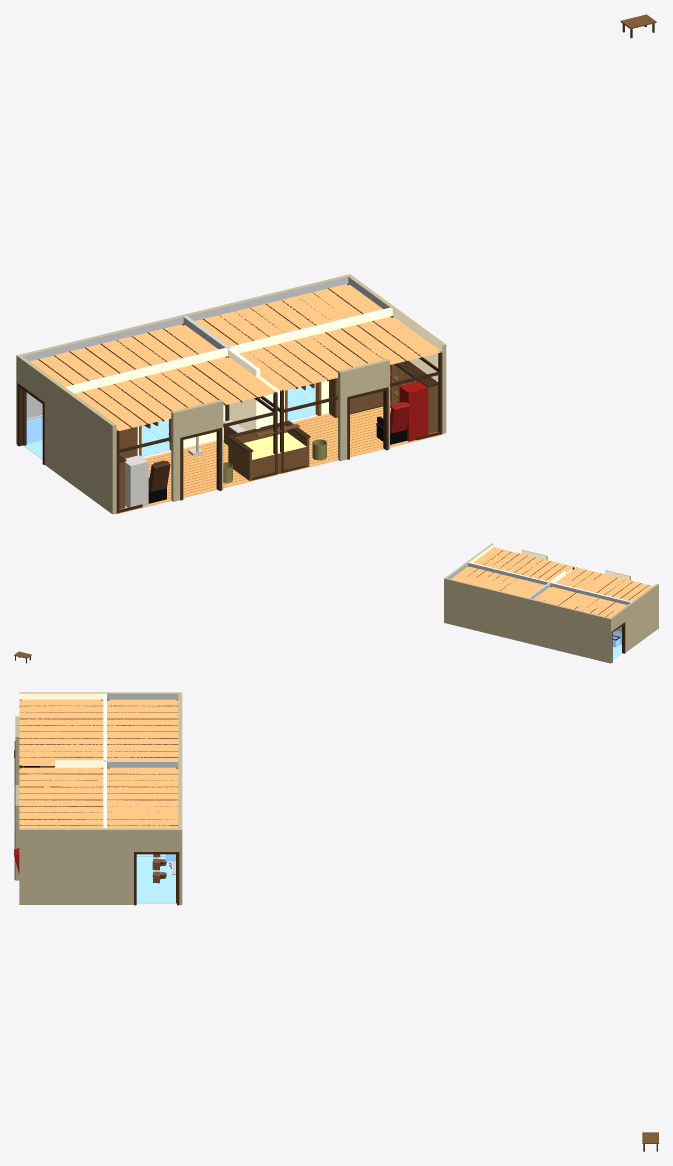
The model's file is SM_Onsen_Interior.fbx.
3 views of the same model, one above another, from view 1: azimuth 30°, elevation 25°; view 2: azimuth 150°, elevation 25°; view 3: azimuth 270°, elevation 25° (orthographic). The views are drawn at different scales.
Visible parts, largest first — view 1: SM_Onsen_Interior; view 2: SM_Onsen_Interior; view 3: SM_Onsen_Interior.
Boxes of the visible parts, <box> form: SM_Onsen_Interior: <box>16,14,656,514</box>; SM_Onsen_Interior: <box>14,543,658,663</box>; SM_Onsen_Interior: <box>14,692,658,1151</box>.
Bounding box in the file's own units: 35.03 × 3.62 × 25.33.
